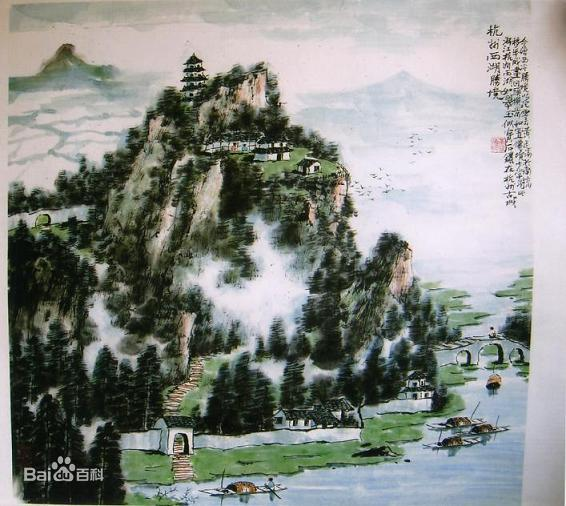boat: (428, 416, 506, 455), (212, 476, 282, 503), (487, 371, 502, 395)
booth: (183, 51, 206, 103)
bridge: (438, 337, 530, 368)
hill: (22, 236, 97, 438)
house: (206, 135, 292, 166), (282, 398, 353, 435), (404, 367, 430, 398), (293, 156, 322, 175)
man: (263, 477, 276, 498), (489, 325, 498, 342)
mountain: (147, 89, 382, 379)
river: (441, 269, 536, 506), (178, 460, 481, 506)
wall: (128, 423, 362, 456), (4, 210, 99, 225), (362, 403, 437, 418)
